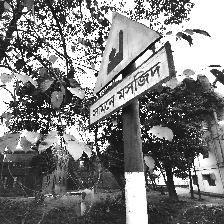Mosque in front: (89, 10, 175, 128)
